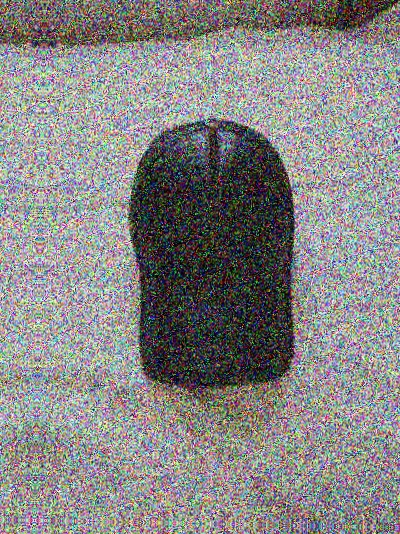Hat: (109, 96, 333, 408)
